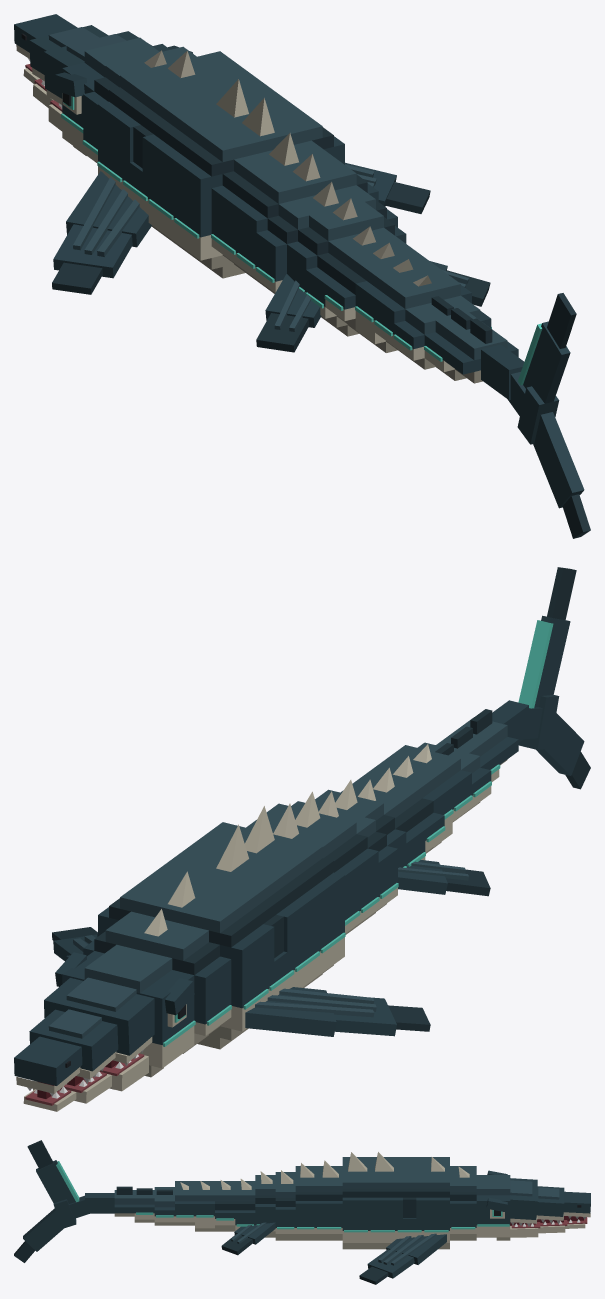
Rendered from Mosasaurus.glb.
3 views of the same model, one above another, from view 1: azimuth 30°, elevation 25°; view 2: azimuth 150°, elevation 25°; view 3: azimuth 270°, elevation 25° (orthographic). The views are drawn at different scales.
Parts seen in each view (by area): view 1: S5, Head, Fluke, FlipperFL, S4, S2, S3, S7, S6, S8, S9, S13 (+12 smaller); view 2: Head, S2, S1, FlipperFL, S4, S5, Fluke, S3, S7, S6, Jaw, FlipperBL (+12 smaller); view 3: Head, Fluke, S5, S4, FlipperFR, S2, S3, S6, S1, S7, S8, S9 (+11 smaller).
Part boxes in pixels (x1,y1,x2,y2): S5: [175, 97, 344, 278]; Head: [14, 14, 192, 160]; Fluke: [517, 293, 590, 538]; FlipperFL: [52, 171, 151, 294]; S4: [149, 79, 296, 259]; S2: [98, 50, 245, 189]; S3: [123, 70, 270, 240]; S7: [237, 154, 378, 293]; S6: [211, 133, 336, 282]; S8: [256, 182, 397, 293]; S9: [287, 198, 406, 321]; S13: [375, 270, 471, 355]; Head: [14, 944, 194, 1098]; S2: [98, 871, 267, 1049]; S1: [83, 909, 231, 1053]; FlipperFL: [245, 987, 430, 1036]; S4: [172, 824, 319, 987]; S5: [197, 806, 344, 987]; Fluke: [518, 567, 590, 789]; S3: [146, 859, 293, 1030]; S7: [266, 791, 378, 934]; S6: [246, 803, 359, 933]; Jaw: [23, 1053, 148, 1111]; FlipperBL: [398, 860, 490, 896]; Head: [476, 1170, 590, 1240]; Fluke: [14, 1140, 76, 1262]; S5: [342, 1152, 369, 1249]; S4: [369, 1152, 396, 1249]; FlipperFR: [359, 1233, 446, 1284]; S2: [423, 1157, 449, 1249]; S3: [396, 1157, 422, 1238]; S6: [315, 1160, 342, 1240]; S1: [450, 1166, 476, 1240]; S7: [295, 1163, 315, 1240]; S8: [275, 1170, 295, 1240]; S9: [255, 1171, 275, 1237].
Bounding box in the file's own units: 17.04 × 10 × 43.02.
